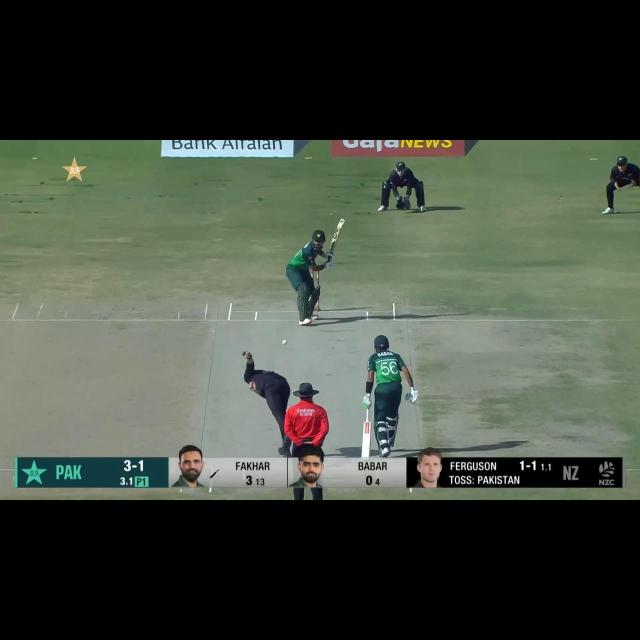bat: (330, 216, 346, 254), (359, 422, 372, 459)
toe: (338, 218, 345, 225)
